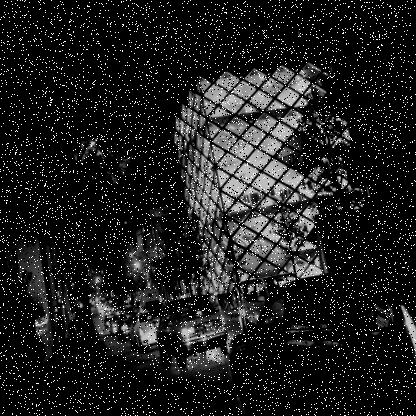Car: (216, 253, 415, 414), (150, 290, 240, 372), (237, 272, 304, 330), (122, 305, 170, 354), (87, 290, 122, 318), (113, 310, 142, 341), (107, 314, 124, 338), (207, 294, 222, 312), (143, 300, 161, 314), (102, 314, 109, 326), (113, 306, 123, 314), (122, 304, 132, 312)
